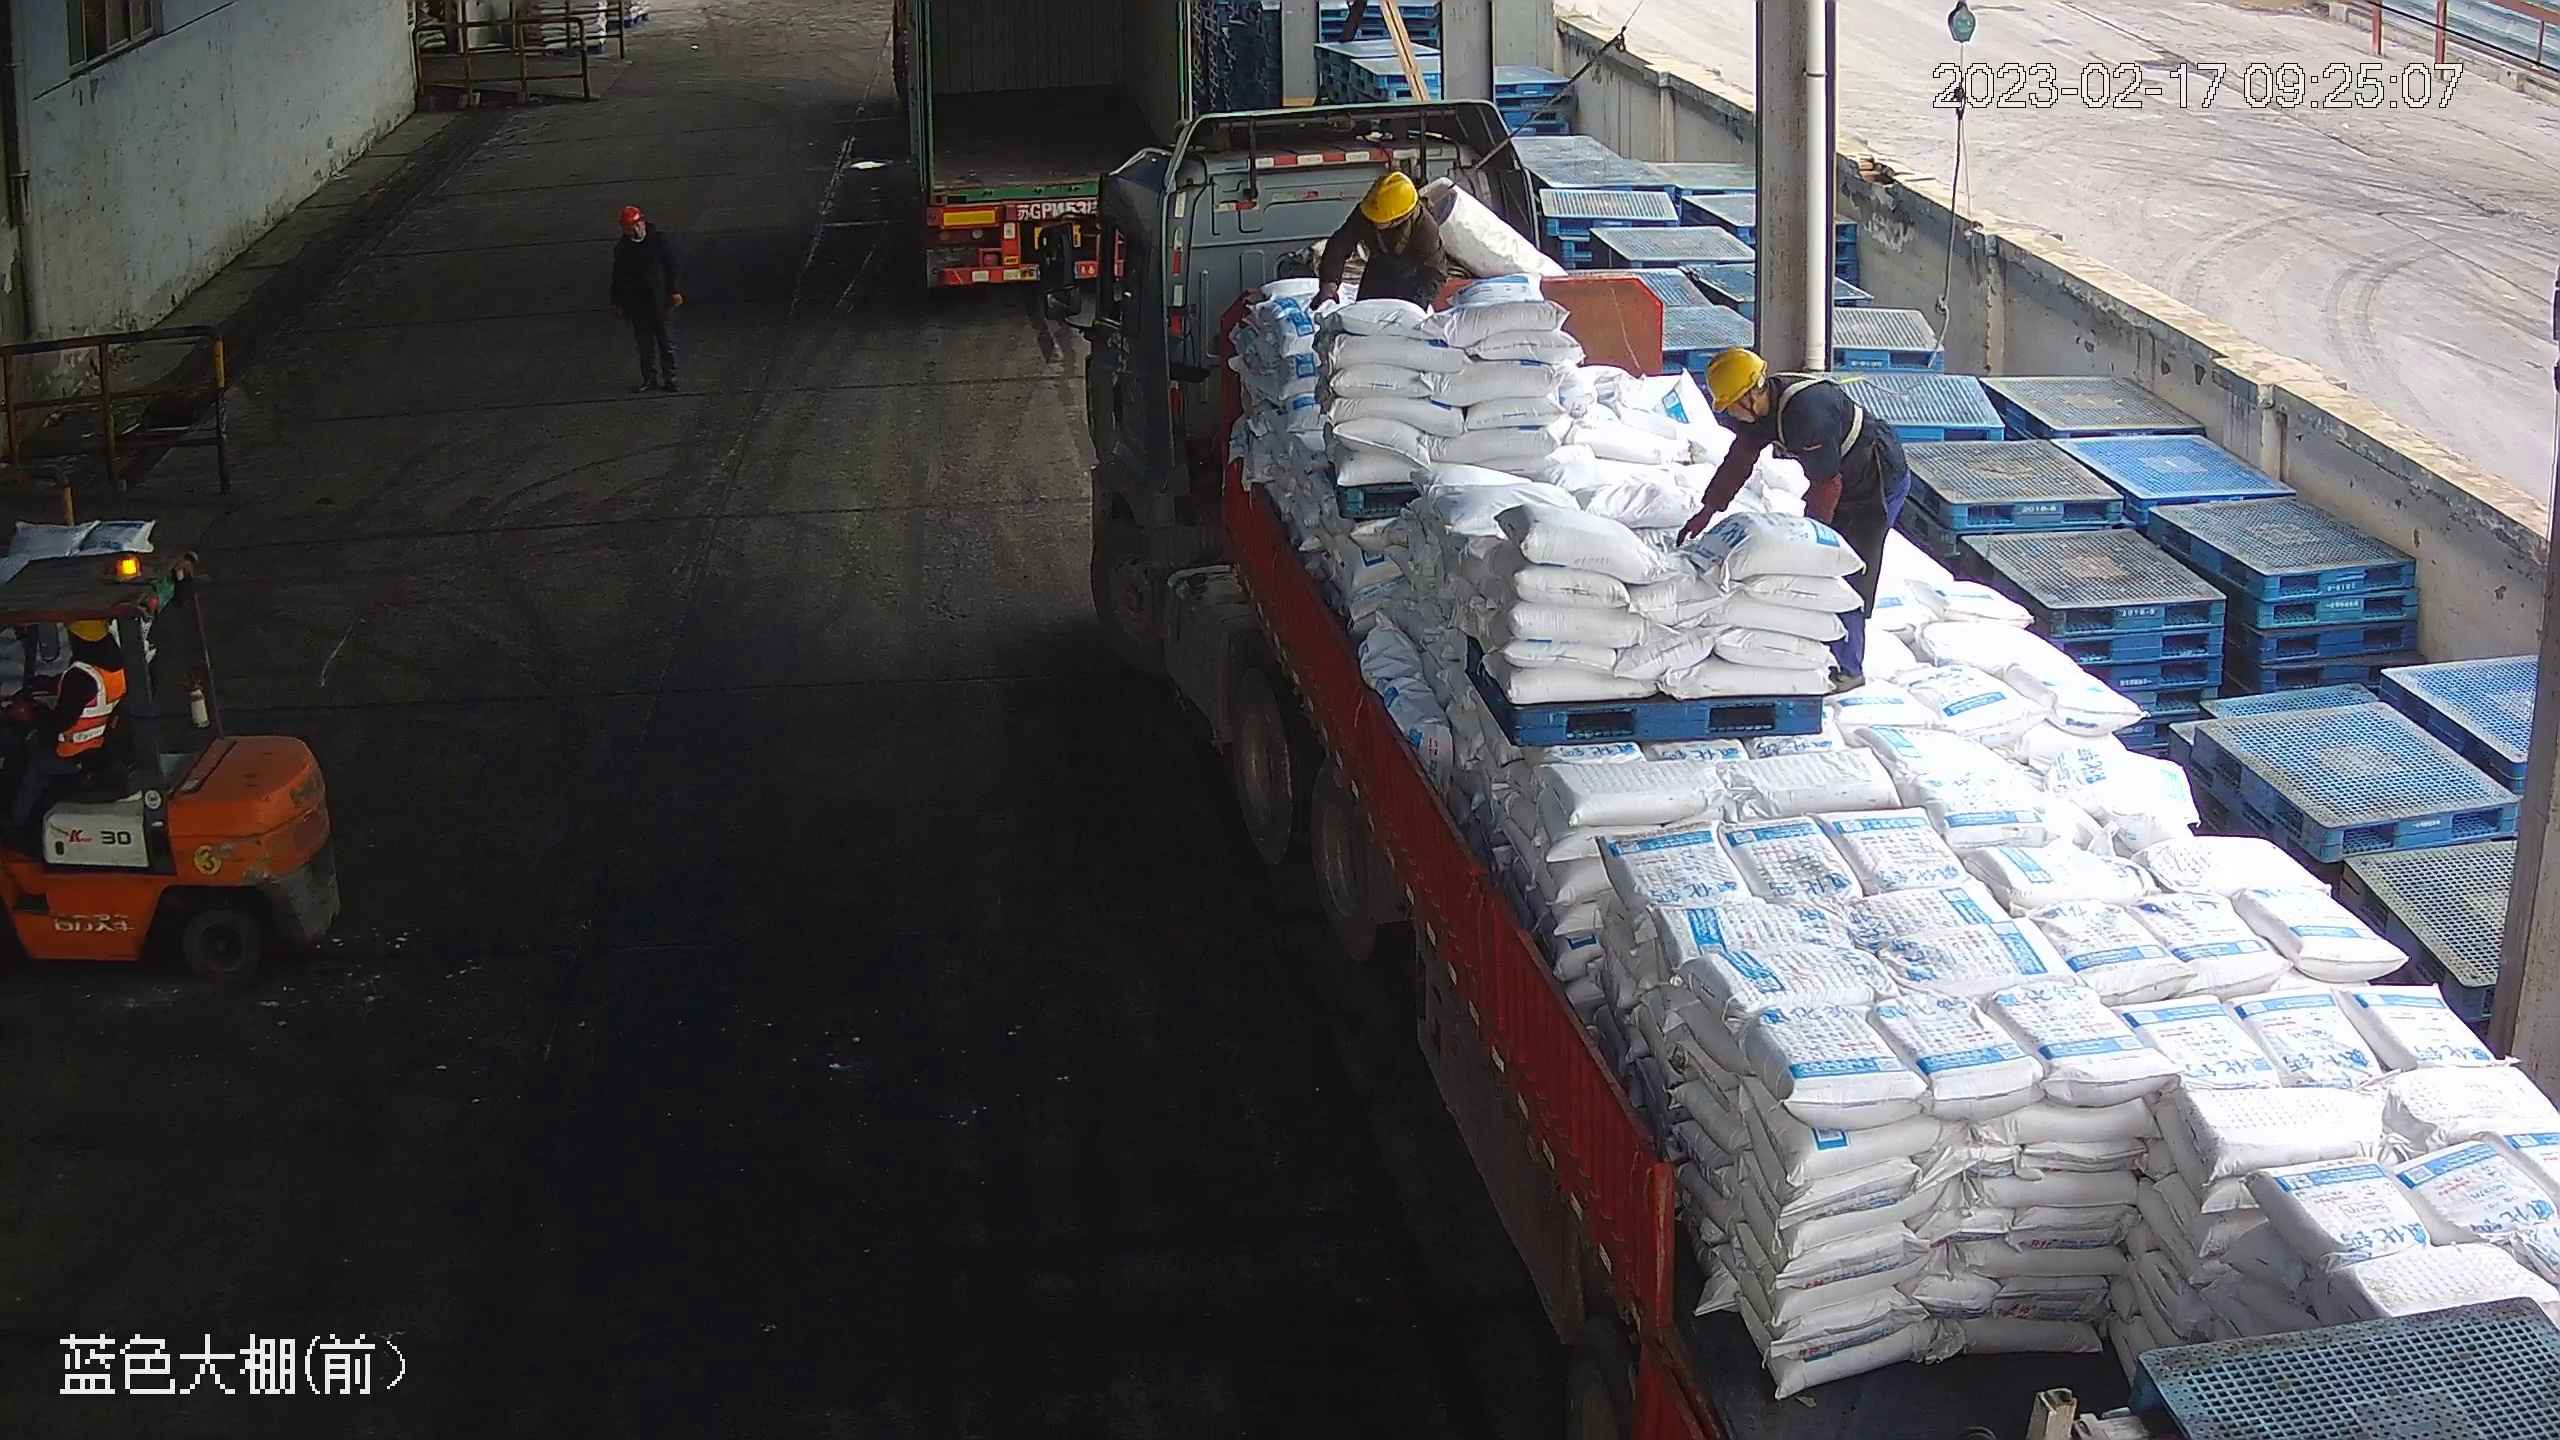belt: (1774, 369, 1867, 457), (1374, 220, 1420, 252)
head: (1704, 346, 1827, 455), (1344, 168, 1441, 253), (53, 615, 128, 695), (612, 204, 668, 260)
helmet: (1702, 346, 1768, 412), (1356, 167, 1415, 224), (69, 616, 112, 644), (617, 204, 645, 228)
people: (1676, 342, 1913, 695), (1, 614, 132, 834), (609, 202, 686, 398)
truck: (1025, 132, 2558, 1440), (882, 1, 1197, 291)
